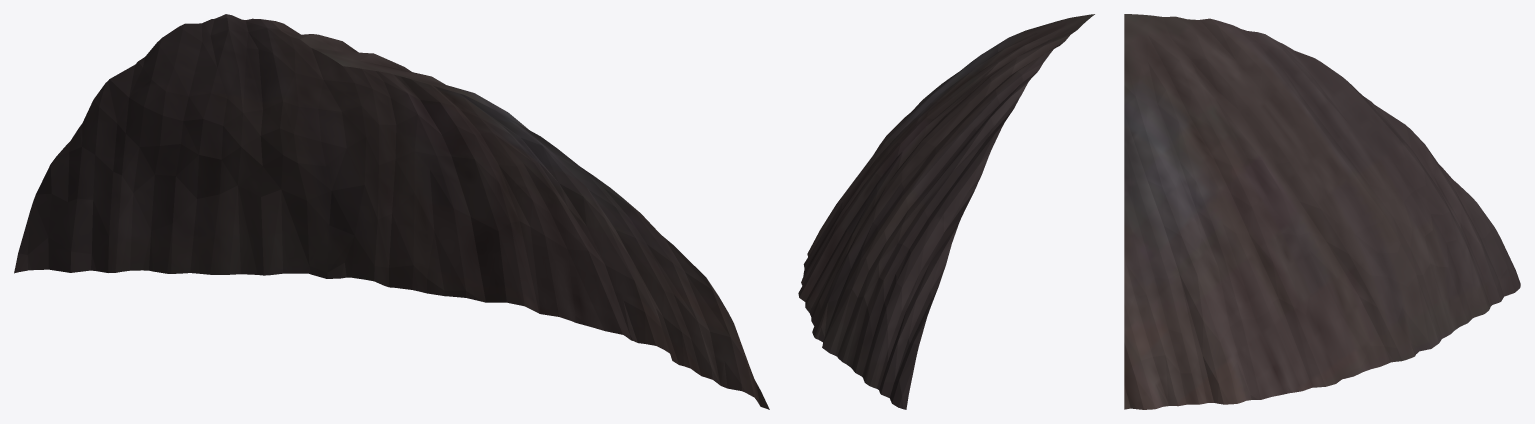
The picture shows the model from 3 angles, left to right: view 1: azimuth 30°, elevation 25°; view 2: azimuth 150°, elevation 25°; view 3: azimuth 270°, elevation 25°; orthographic projection. The views are drawn at different scales.
Bounding box in the file's own units: 52.66 × 52.65 × 70.08.
Materials: 1 (1 with a texture image).
